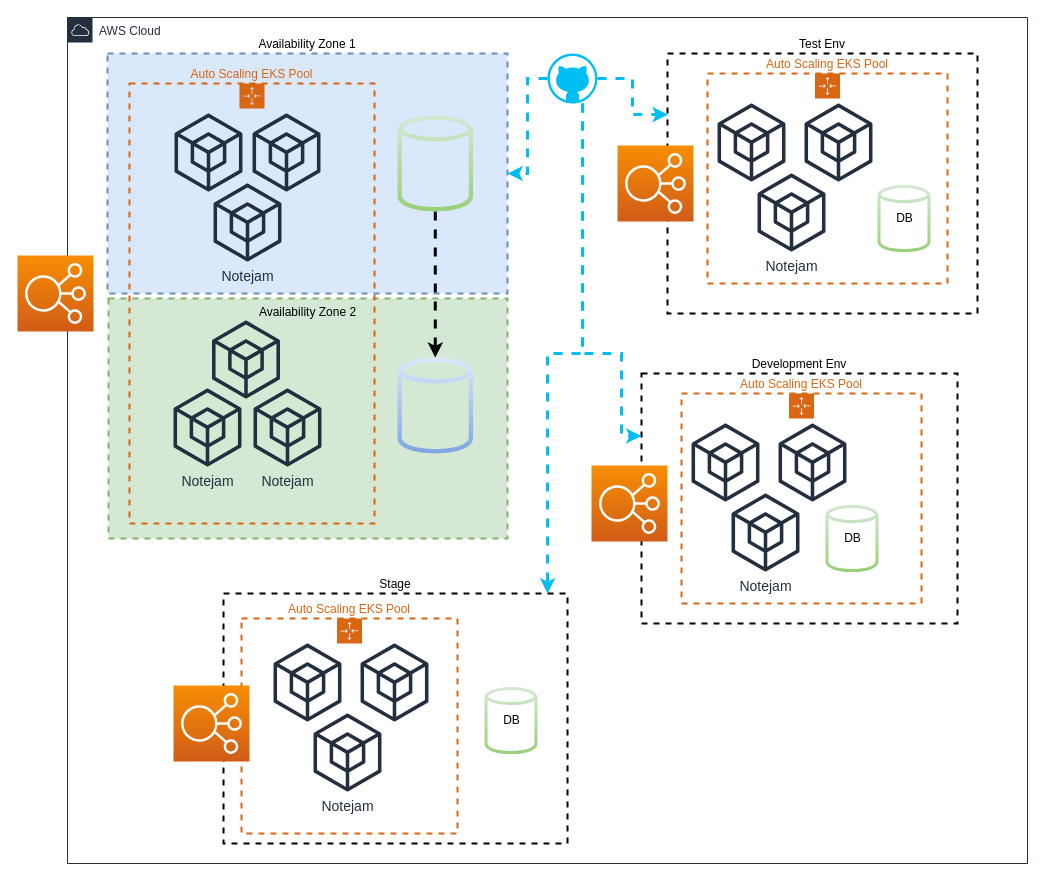
Image size: 1045x881. Some labels were removed from this diagram. Each missing label, with the centre of its shape:
"DB Master" belongs at (x=434, y=163).
"DB Replica" belongs at (x=434, y=405).
"Infra Code" belongs at (x=572, y=78).
